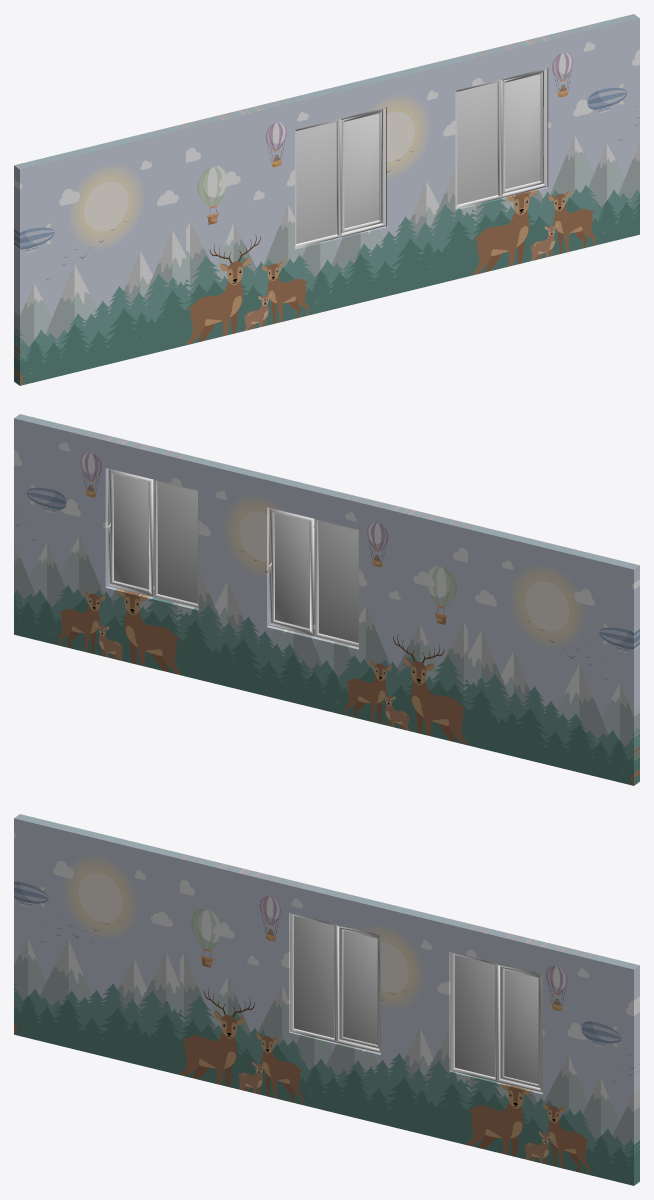
Rendered from WallWithWindow2V2.fbx.
The picture shows the model from 3 angles, top to bottom: view 1: azimuth 30°, elevation 25°; view 2: azimuth 150°, elevation 25°; view 3: azimuth 330°, elevation 25°; orthographic projection.
Visible parts, largest first — view 1: Plane.009; view 2: Plane.009; view 3: Plane.009.
Part boxes in pixels (x1,y1,x2,y2): Plane.009: (14,14,639,385); Plane.009: (14,414,639,785); Plane.009: (14,814,639,1185).
Bounding box in the file's own units: 9 × 0.1581 × 3.
7 materials, 1 textured.
